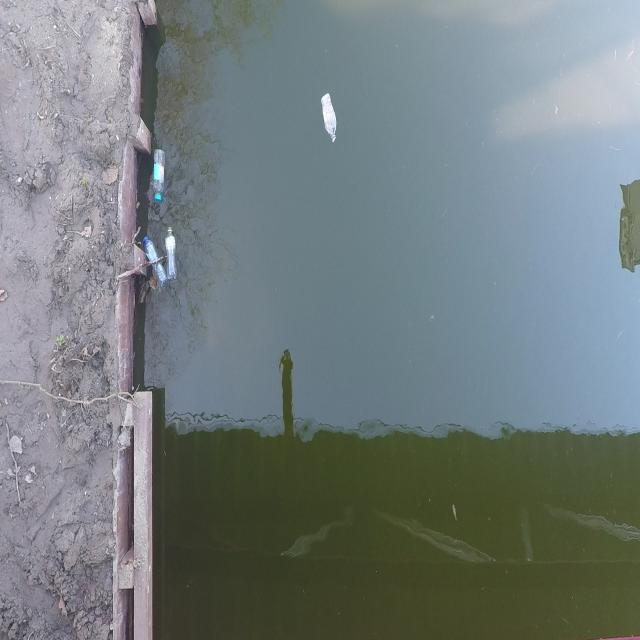Bouteille plastique: (316, 87, 342, 148), (142, 232, 168, 292), (148, 142, 171, 205), (164, 224, 182, 288)
